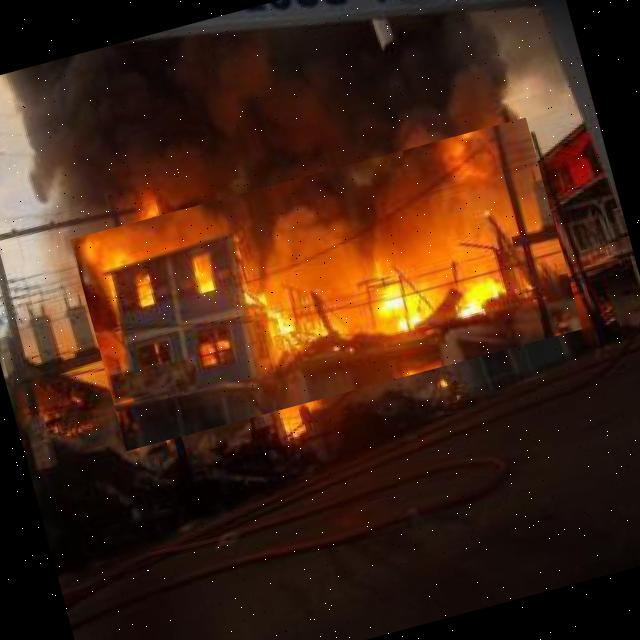fire: (70, 117, 582, 451)
